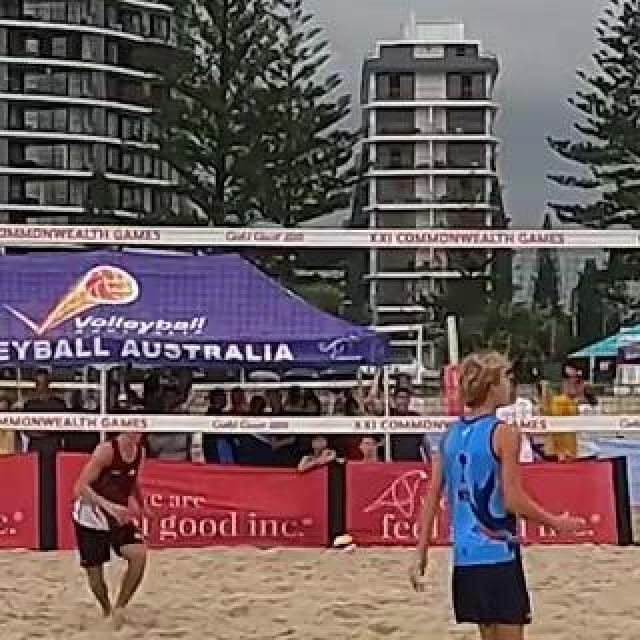volleyball: (332, 534, 356, 554)
